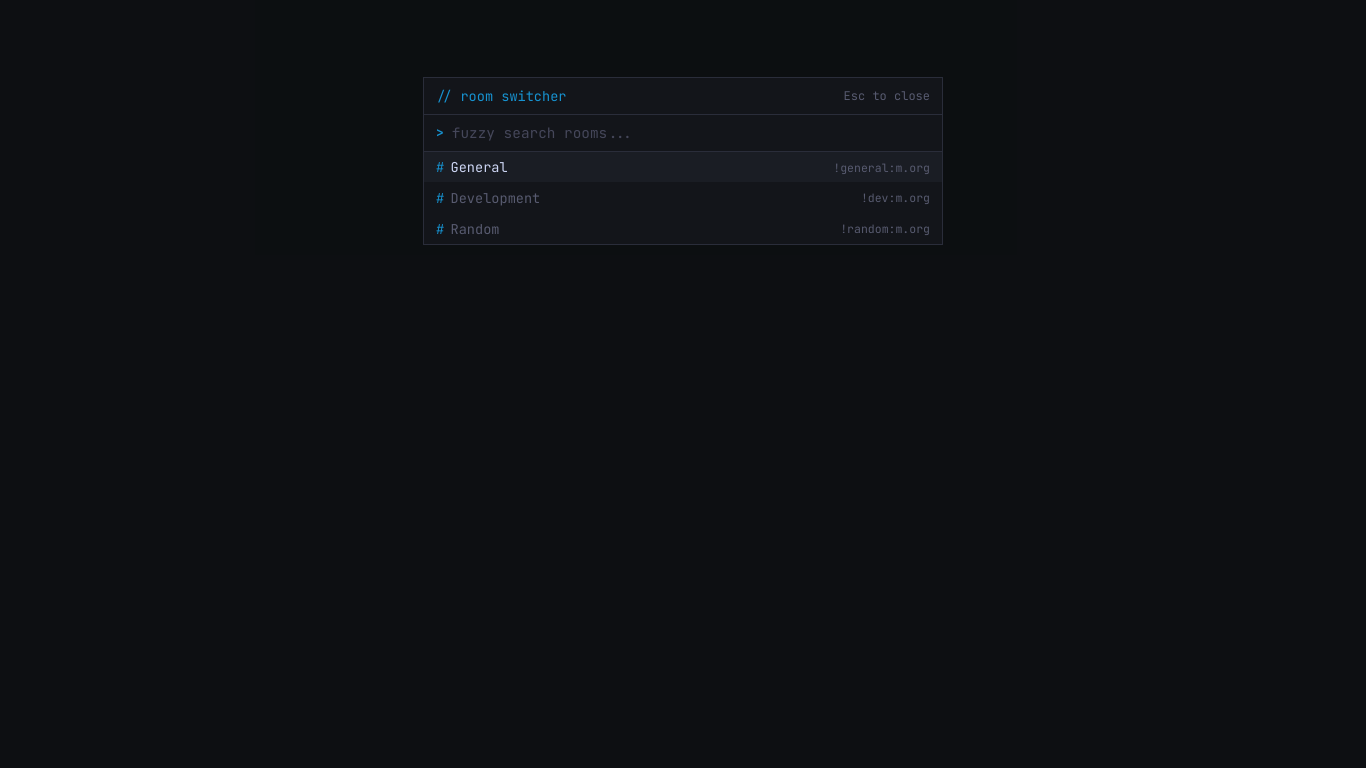
Test case: RoomSwitcher › filters rooms by query
Type "dev" into the field with placeholder "fuzzy search rooms...".
click(691, 133); type("dev")  # box 452,123 -> 930,142
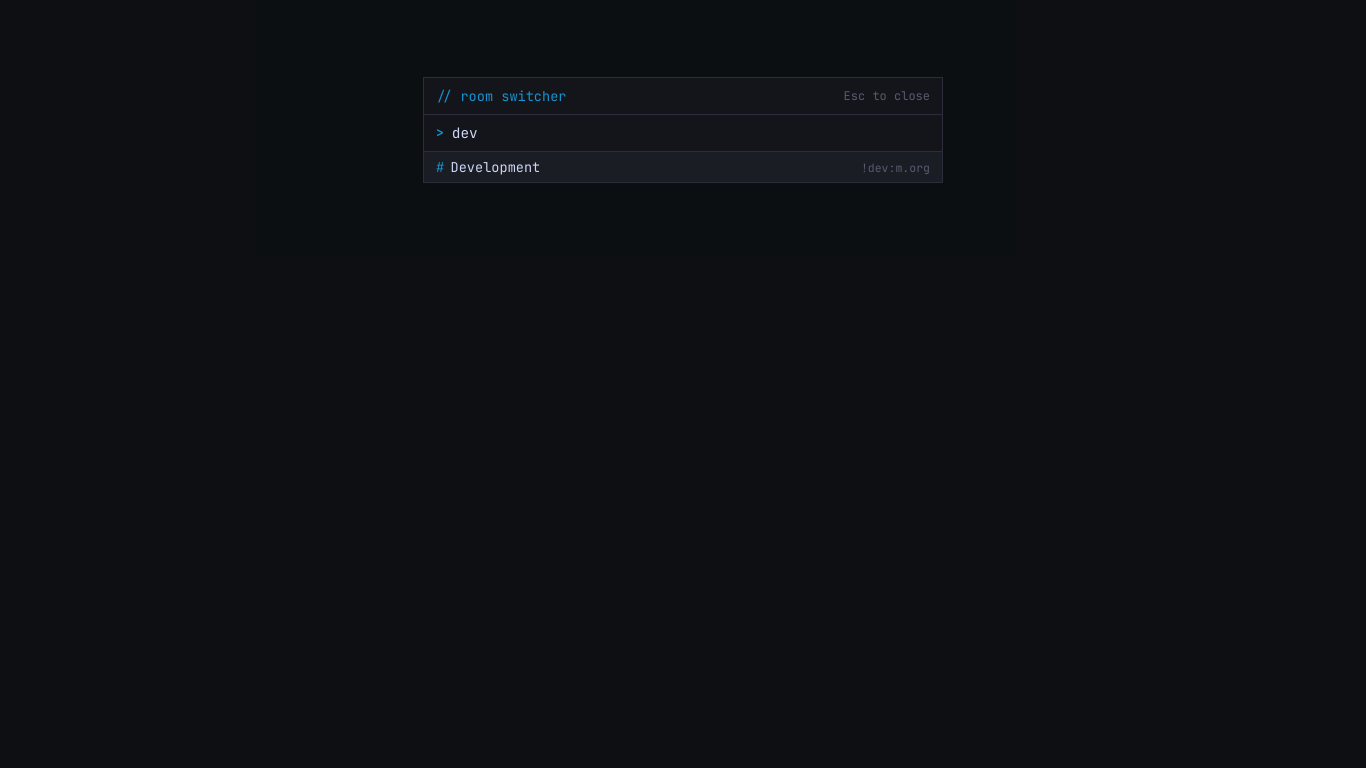
Expected: the text "Development" is shown, 450,158 -> 540,176
Expected: the button "General" is gone
Expected: the button "Random" is gone
